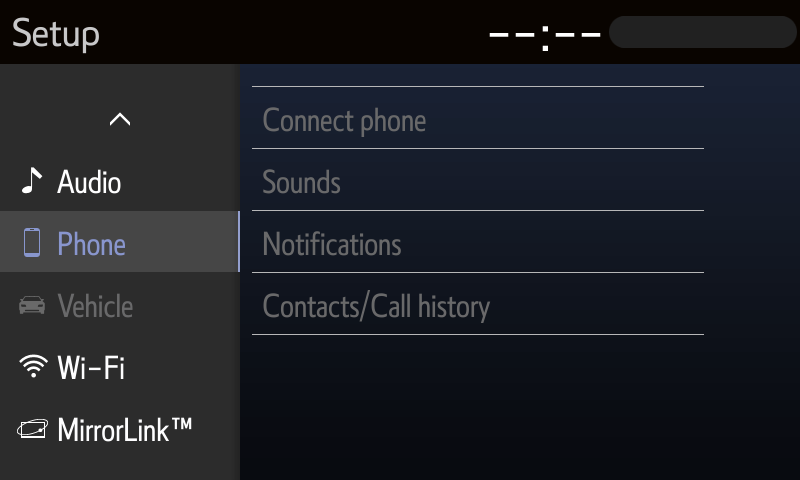touchPart: (14, 409, 212, 452), (13, 347, 133, 387), (15, 163, 126, 198), (105, 105, 138, 140)
untouchPart: (249, 144, 709, 218), (250, 205, 708, 279), (252, 268, 709, 341), (250, 81, 711, 153), (2, 209, 239, 275), (476, 10, 798, 56), (10, 11, 104, 58), (15, 292, 141, 323)
